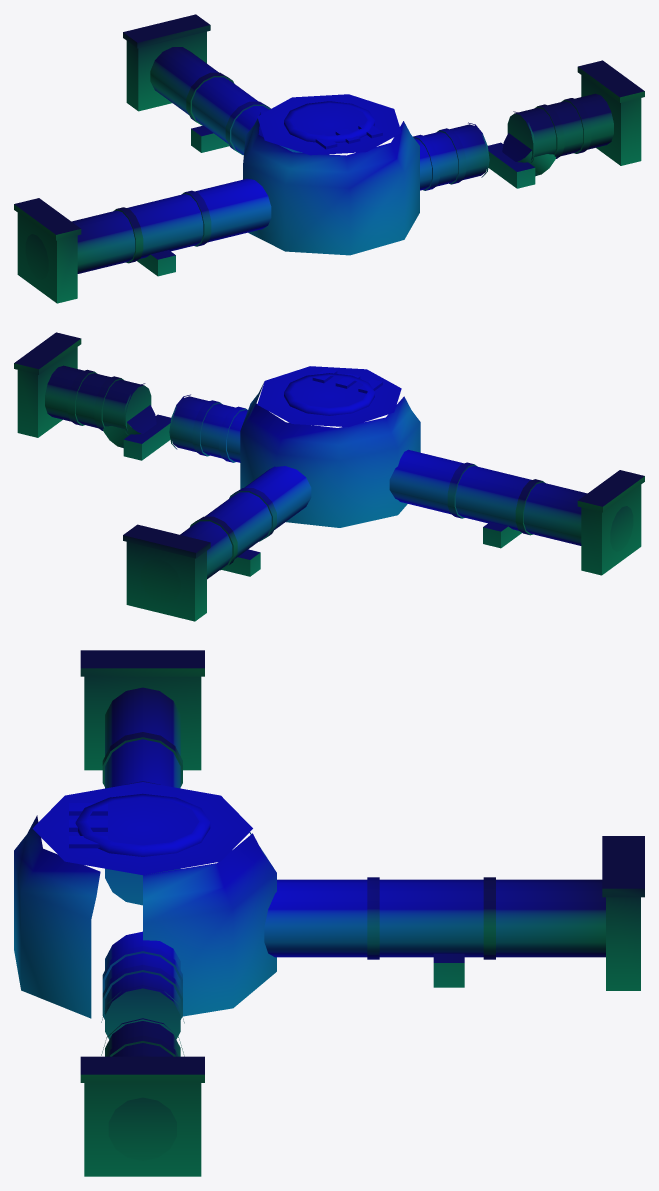
Rendered from threewaypipe_damaged.glb.
The picture shows the model from 3 angles, top to bottom: view 1: azimuth 30°, elevation 25°; view 2: azimuth 150°, elevation 25°; view 3: azimuth 270°, elevation 25°; orthographic projection. The views are drawn at different scales.
Visible parts, largest first — view 1: lod0; view 2: lod0; view 3: lod0.
Boxes of the visible parts, x1,y1,x2,y2 form: lod0: (14, 14, 644, 303); lod0: (14, 332, 644, 621); lod0: (14, 650, 644, 1176).
Size of what is drawn, in the model's own units: 25.8 by 4.32 by 16.21.
